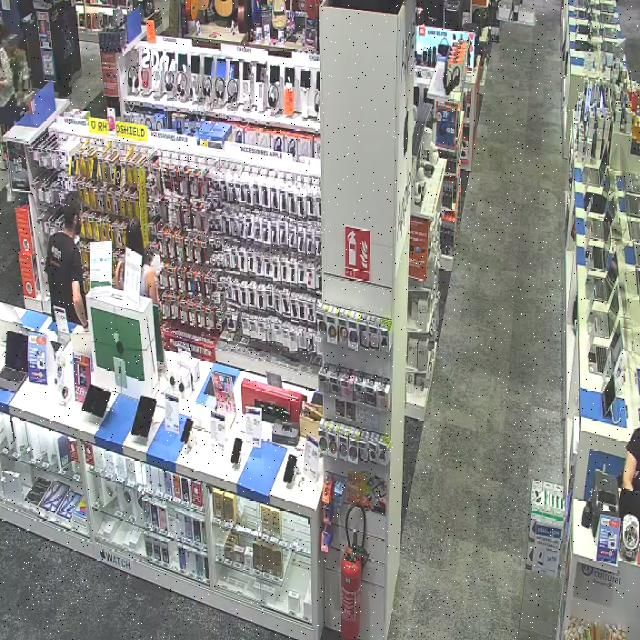person: (45, 193, 86, 328), (126, 219, 157, 303), (115, 257, 127, 288)
